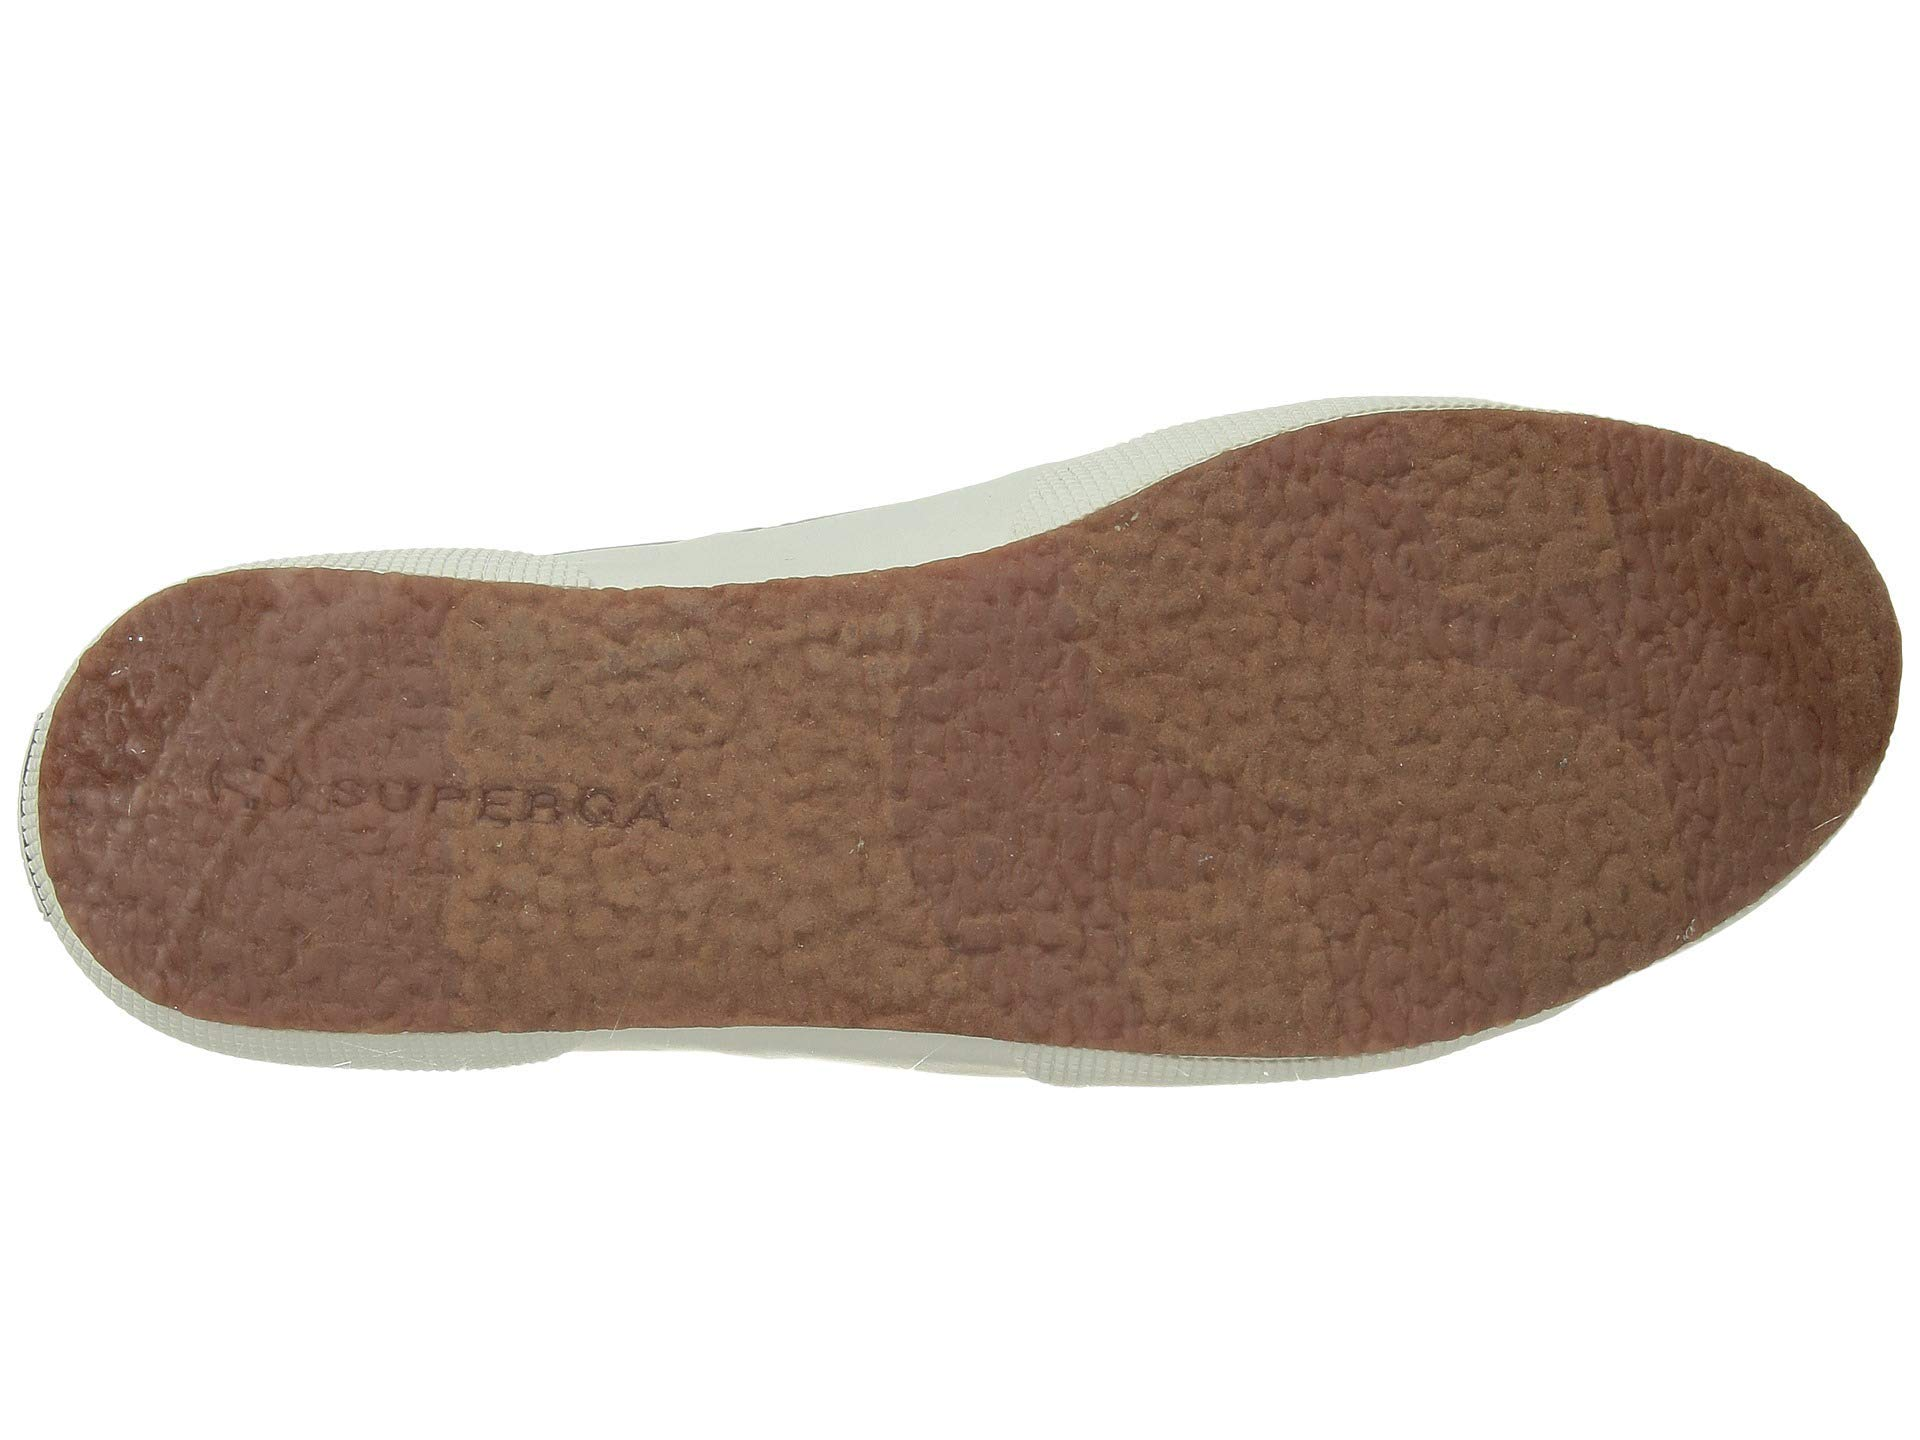text: (348, 722, 709, 970)
